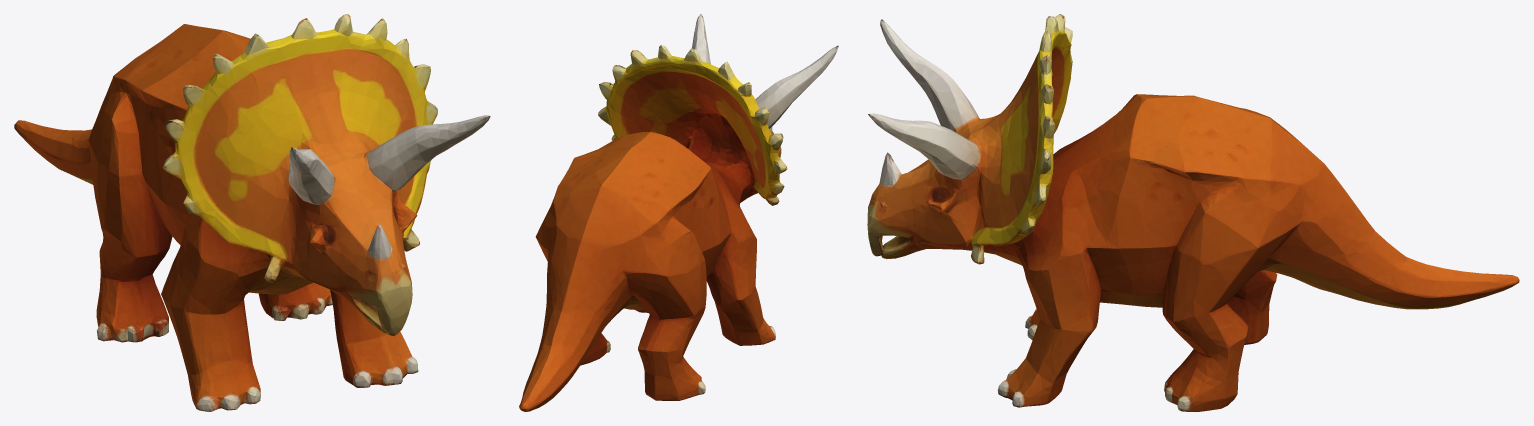
File: triceratops.glb
The picture shows the model from 3 angles, left to right: view 1: azimuth 30°, elevation 25°; view 2: azimuth 150°, elevation 25°; view 3: azimuth 270°, elevation 25°; orthographic projection. The views are drawn at different scales.
Parts seen in each view (by area): view 1: geometry_0; view 2: geometry_0; view 3: geometry_0.
Boxes of the visible parts, box(x1,y1,x2,y2) form: geometry_0: box(14, 14, 490, 411); geometry_0: box(519, 14, 838, 411); geometry_0: box(867, 14, 1519, 411).
Size of the model in its own units: 0.4265 by 0.5705 by 0.997.
Materials: 1 (1 with a texture image).
